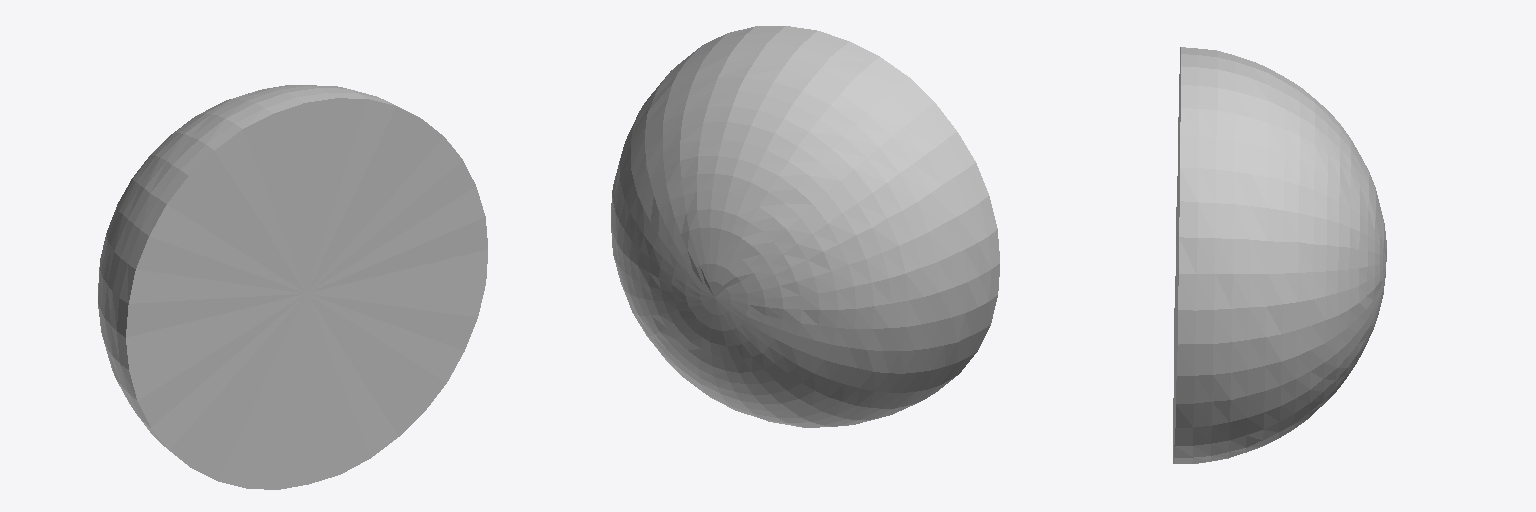
The model's file is Pie_Izquierdo.obj.
3 views of the same model, side by side, from view 1: azimuth 30°, elevation 25°; view 2: azimuth 150°, elevation 25°; view 3: azimuth 270°, elevation 25° (orthographic).
Visible parts, largest first — view 1: obj_0; view 2: obj_0; view 3: obj_0.
Part boxes in pixels (x1,y1,x2,y2): obj_0: (98, 85, 487, 489); obj_0: (611, 26, 999, 427); obj_0: (1173, 47, 1386, 463).
Size of the model in its own units: 0.379 by 0.378 by 0.193.